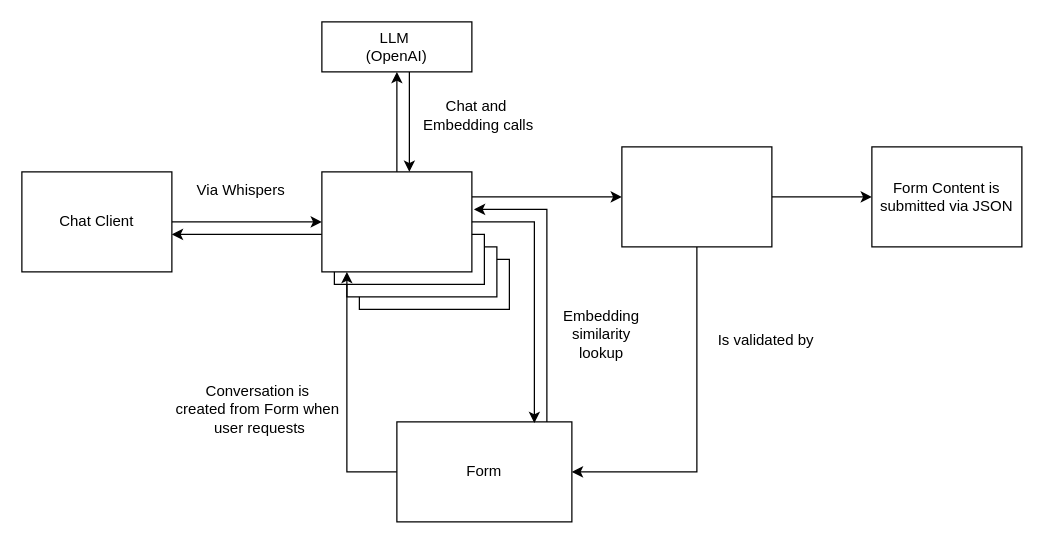
Some shapes in this 1044 by 544 pixel diagram are drawn without their labels. The shapes that lost their labels are listed below. From the top down, each one's box as (x1, y1, x2, y2) in pixels, then its label:
(621, 146, 772, 247): Form Content
(321, 171, 472, 272): Conversation
